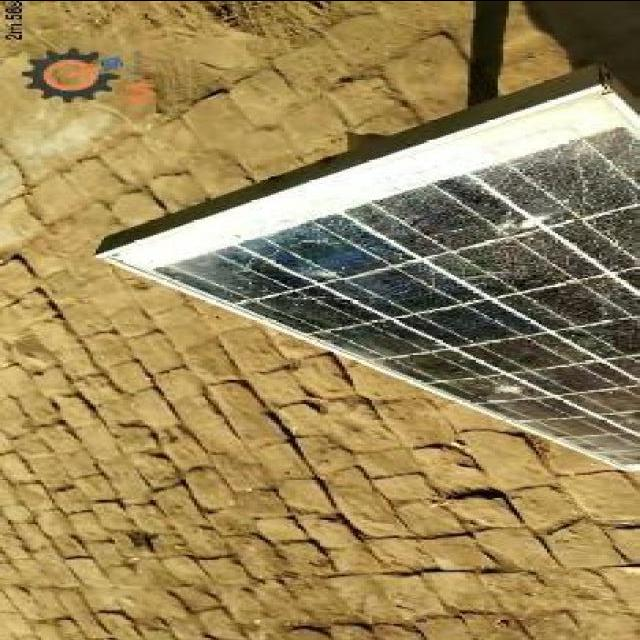cracked: (101, 132, 640, 531)
